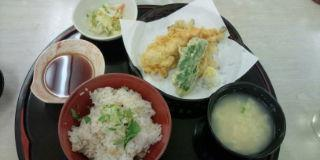plate: (57, 73, 171, 159)
rice: (69, 87, 160, 159)
